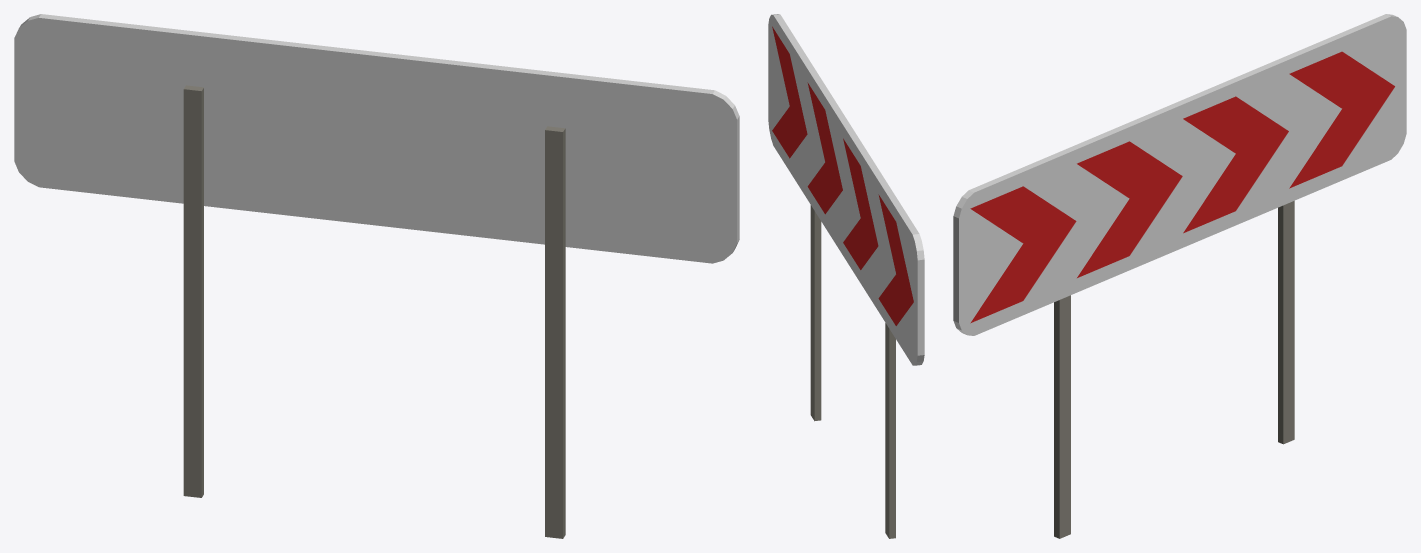
The model's file is Prop_Track_Sign_On_Curve.obj.
3 views of the same model, side by side, from view 1: azimuth 30°, elevation 25°; view 2: azimuth 150°, elevation 25°; view 3: azimuth 270°, elevation 25° (orthographic). The views are drawn at different scales.
Visible parts, largest first — view 1: Wide_Sign_White, Sign_Post; view 2: Wide_Sign_White, Wide_Sign_Red, Sign_Post; view 3: Wide_Sign_White, Wide_Sign_Red, Sign_Post.
Boxes of the visible parts, bbox=[...] form: Wide_Sign_White: bbox=[14, 14, 739, 263]; Sign_Post: bbox=[183, 85, 565, 538]; Wide_Sign_White: bbox=[768, 14, 924, 365]; Wide_Sign_Red: bbox=[772, 26, 913, 325]; Sign_Post: bbox=[810, 205, 895, 538]; Wide_Sign_White: bbox=[953, 14, 1406, 335]; Wide_Sign_Red: bbox=[970, 51, 1394, 323]; Sign_Post: bbox=[1054, 201, 1294, 538].
Bounding box in the file's own units: 1.43 × 1.35 × 1.43.
